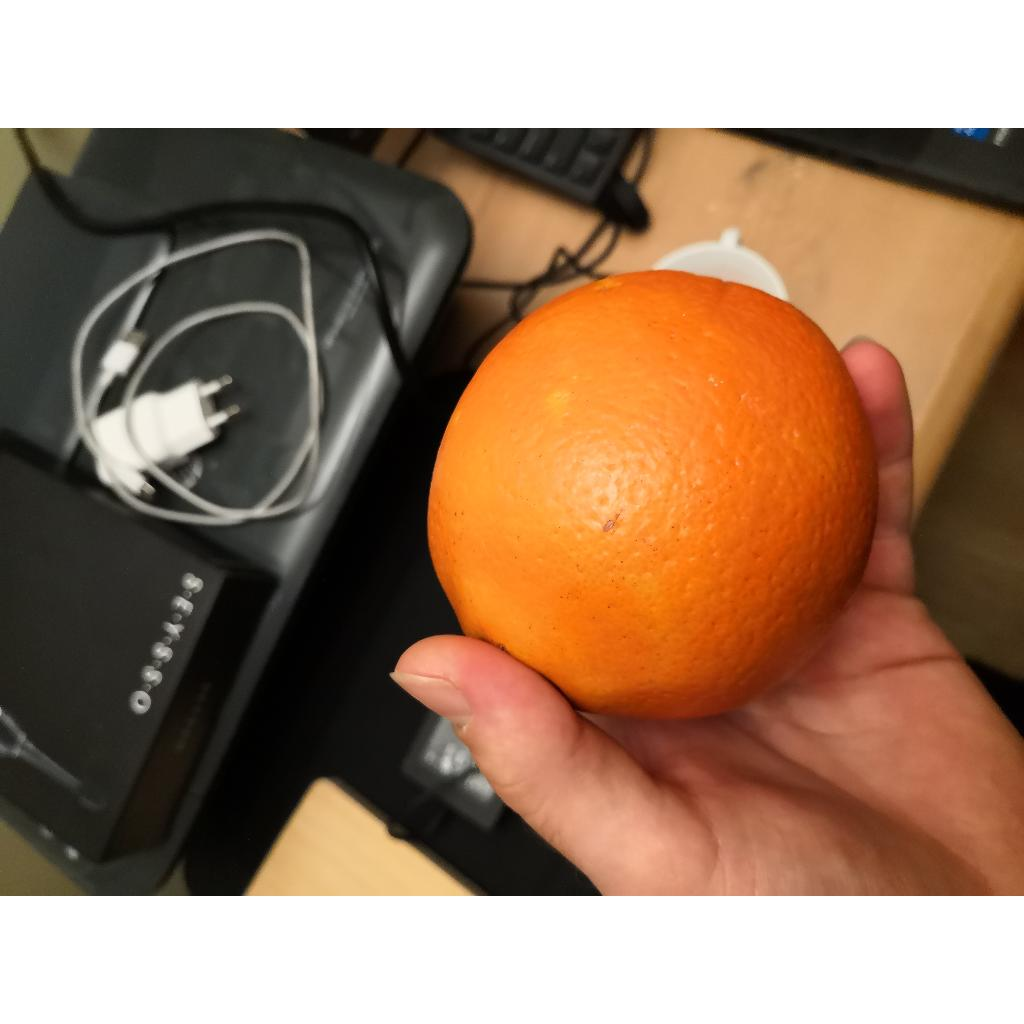orange: (428, 270, 878, 718)
